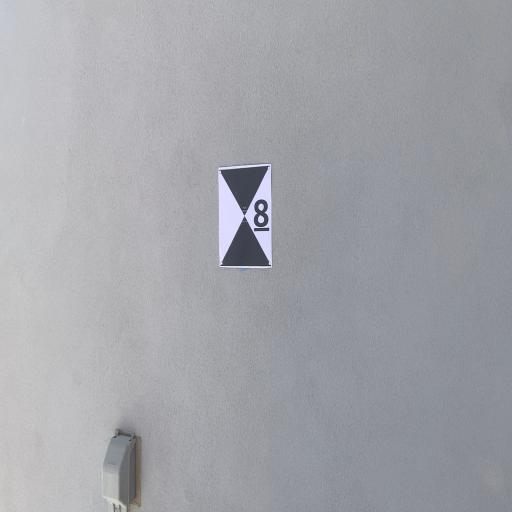target8: (218, 165, 272, 266)
